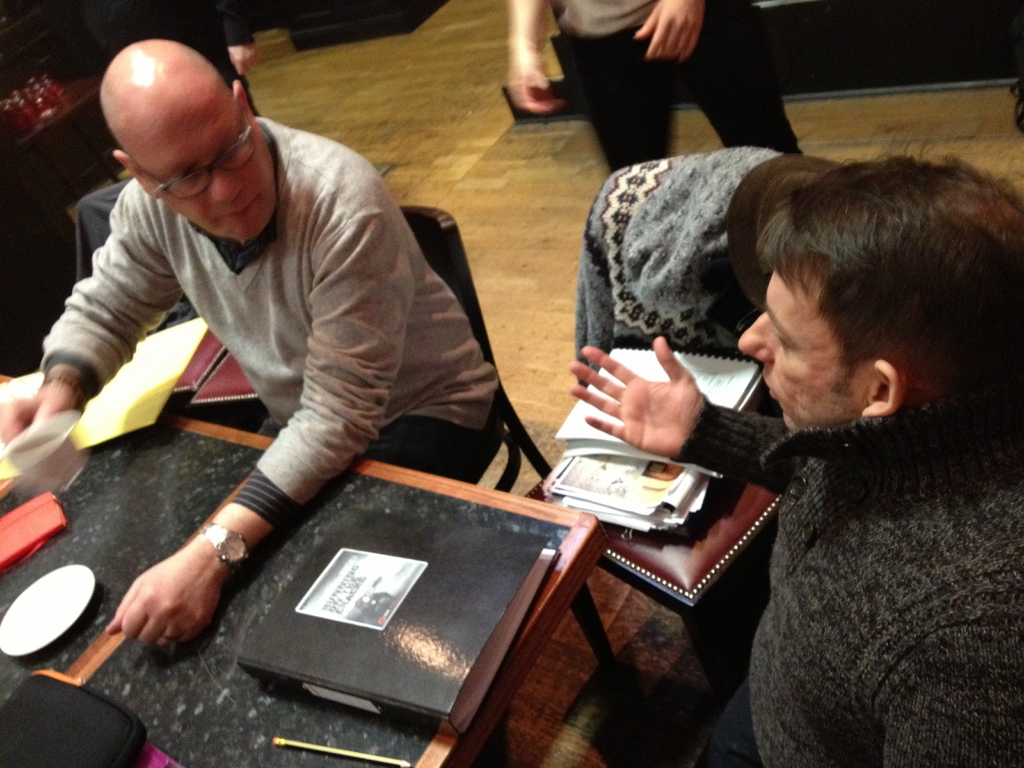Human_hand: (584, 349, 744, 462), (104, 549, 225, 652), (632, 0, 706, 67), (0, 385, 76, 442), (502, 63, 568, 118)
